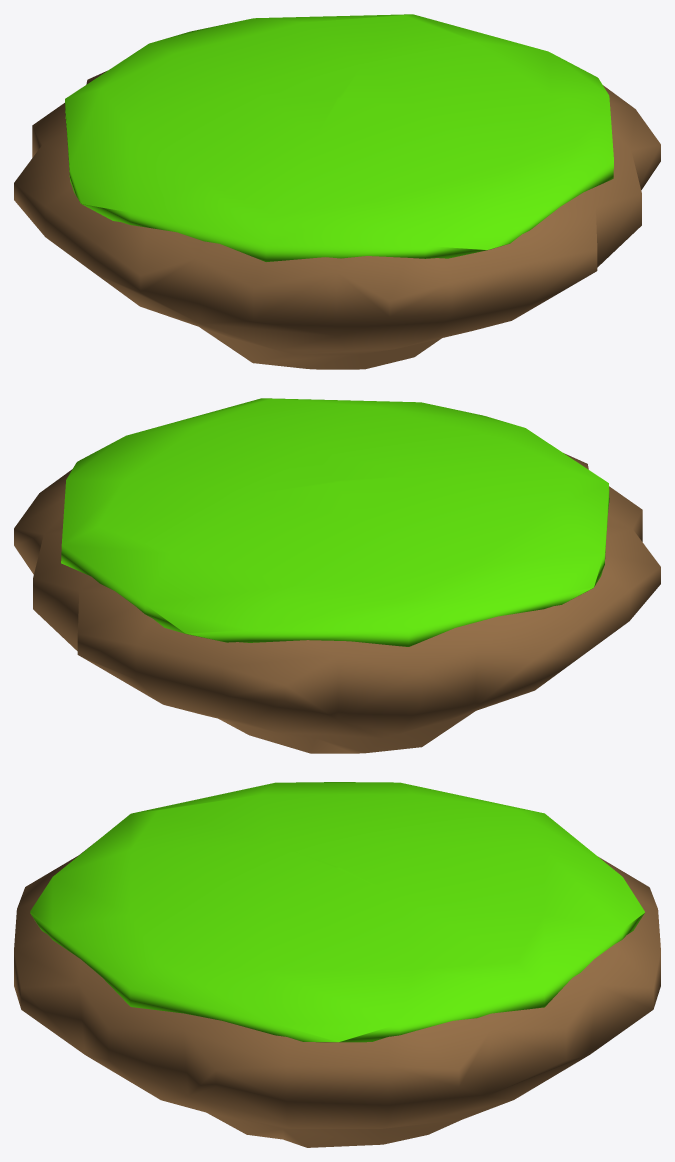
The model's file is island .fbx.
The picture shows the model from 3 angles, top to bottom: view 1: azimuth 30°, elevation 25°; view 2: azimuth 150°, elevation 25°; view 3: azimuth 270°, elevation 25°; orthographic projection. The views are drawn at different scales.
Visible parts, largest first — view 1: Sphere, Icosphere; view 2: Sphere, Icosphere; view 3: Sphere, Icosphere.
Part boxes in pixels (left/top/right/bottom): Sphere: left=65, top=14, right=613, bottom=261; Icosphere: left=14, top=70, right=660, bottom=369; Sphere: left=61, top=398, right=609, bottom=646; Icosphere: left=14, top=453, right=660, bottom=753; Sphere: left=30, top=782, right=644, bottom=1042; Icosphere: left=14, top=843, right=660, bottom=1147.
Size of the model in its own units: 818 by 355 by 821.
